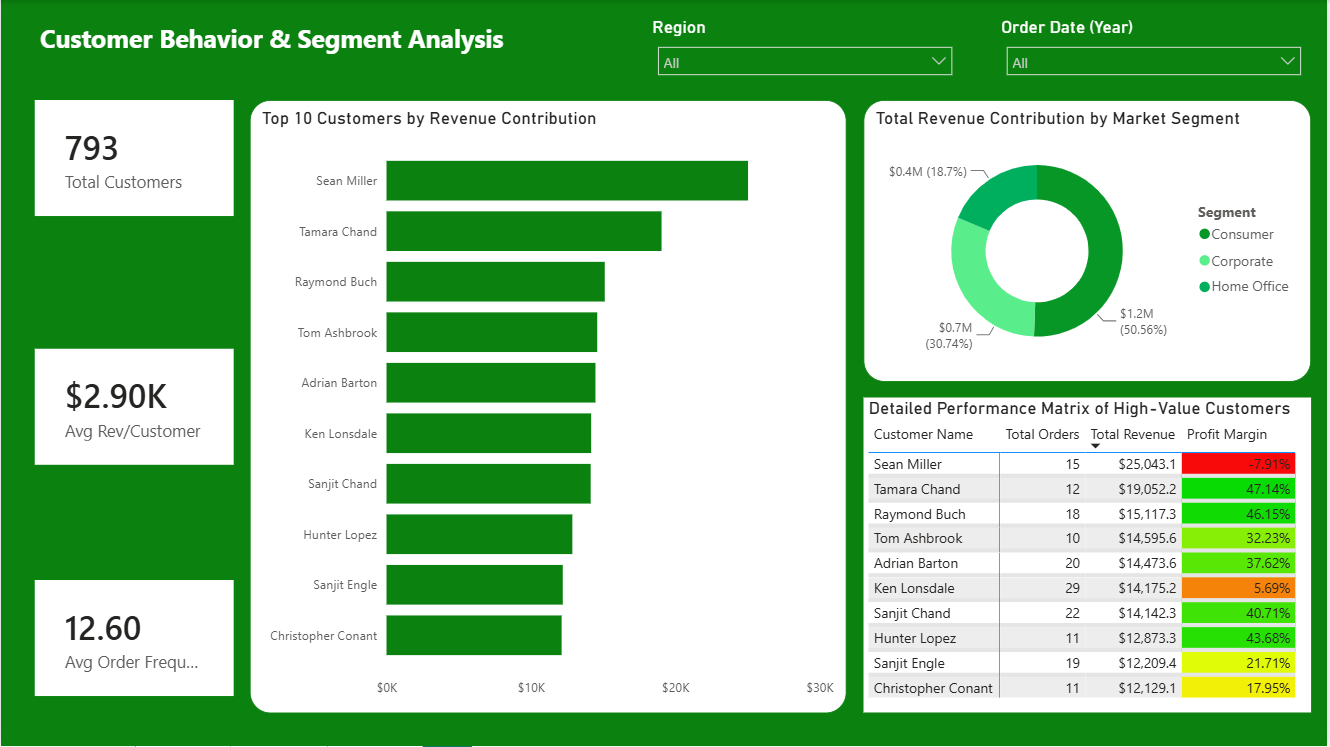

The dashboard page shown, as its layout file describes it:
{"tool":"powerbi","page":{"name":"Page 2","canvas":[1280,720],"ordinal":1},"visuals":[{"type":"cardVisual","fields":{"Data":["Sample - Superstore.Avg Revenue Per Customer"]},"box":[32,336,192,112],"z":0},{"type":"cardVisual","fields":{"Data":["Sample - Superstore.Total Customers"]},"box":[32,96,192,112],"z":1000},{"type":"cardVisual","fields":{"Data":["Sample - Superstore.Avg Order Frequency"]},"box":[32,560,192,112],"z":2000},{"type":"clusteredBarChart","title":"Top 10 Customers by Revenue Contribution","fields":{"Category":["Sample - Superstore.Customer Name"],"Y":["Sample - Superstore.Total Revenue"]},"box":[240,96,576,592],"z":3000},{"type":"donutChart","title":"Total Revenue Contribution by Market Segment","fields":{"Category":["Sample - Superstore.Segment"],"Y":["Sample - Superstore.Total Revenue"]},"box":[832,96,432,272],"z":4000},{"type":"pivotTable","title":"Detailed Performance Matrix of High-Value Customers","fields":{"Rows":["Sample - Superstore.Customer Name"],"Values":["Sample - Superstore.Total Orders","Sample - Superstore.Total Revenue","Sample - Superstore.Profit Margin"]},"box":[832,384,432,304],"z":5000},{"type":"textbox","box":[32,16,480,48],"z":6000},{"type":"slicer","title":"Region","fields":{"Values":["Sample - Superstore.Region"]},"box":[624,16,304,64],"z":7000},{"type":"slicer","title":"Order Date (Year)","fields":{"Values":["Sample - Superstore.Order Date.Variation.Date Hierarchy.Year"]},"box":[960,16,304,64],"z":8000}]}

Visuals, with their boxes in screenshot pixels (x1, y1, x2, y2), scaled from the page's 1280x720 canvas onto the 1330x747 screenshot:
cardVisual - Sample - Superstore.Avg Revenue Per Customer: <region>33, 349, 233, 465</region>
cardVisual - Sample - Superstore.Total Customers: <region>33, 100, 233, 216</region>
cardVisual - Sample - Superstore.Avg Order Frequency: <region>33, 581, 233, 697</region>
"Top 10 Customers by Revenue Contribution" clusteredBarChart: <region>249, 100, 848, 714</region>
"Total Revenue Contribution by Market Segment" donutChart: <region>864, 100, 1313, 382</region>
"Detailed Performance Matrix of High-Value Customers" pivotTable: <region>864, 398, 1313, 714</region>
textbox: <region>33, 17, 532, 66</region>
"Region" slicer: <region>648, 17, 964, 83</region>
"Order Date (Year)" slicer: <region>998, 17, 1313, 83</region>
